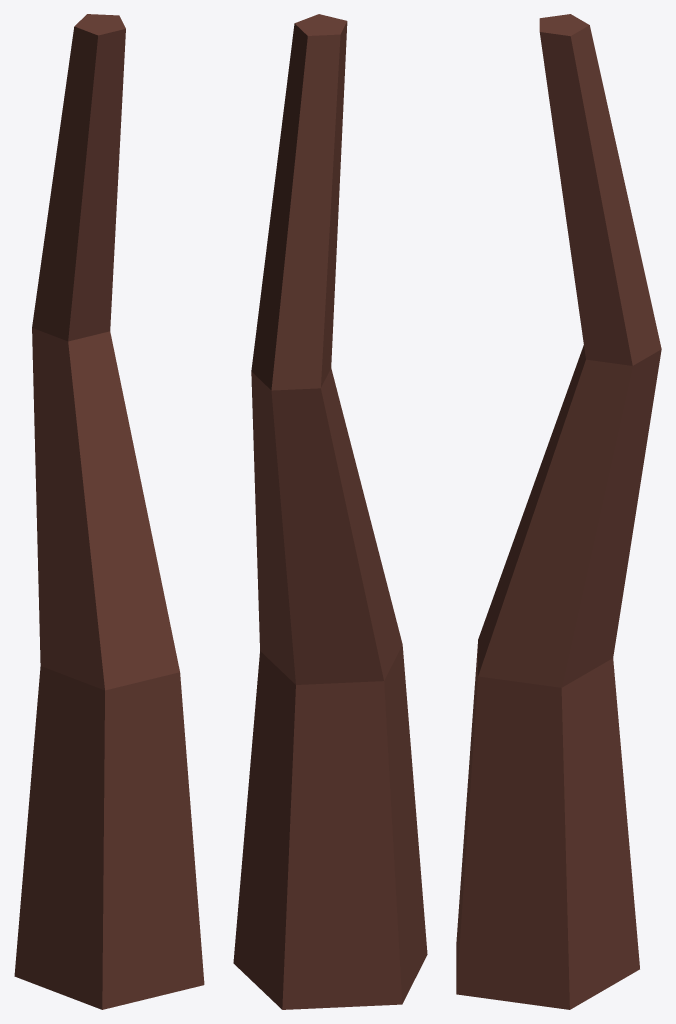
The model's file is tree_wood.gltf.
3 views of the same model, side by side, from view 1: azimuth 30°, elevation 25°; view 2: azimuth 150°, elevation 25°; view 3: azimuth 270°, elevation 25° (orthographic). The views are drawn at different scales.
Visible parts, largest first — view 1: Circle; view 2: Circle; view 3: Circle.
Part boxes in pixels (x1=…): Circle: x1=14, y1=14, x2=204, y2=1009; Circle: x1=233, y1=14, x2=427, y2=1009; Circle: x1=456, y1=14, x2=661, y2=1009.
Bounding box in the file's own units: 1.52 × 8.24 × 1.62.
